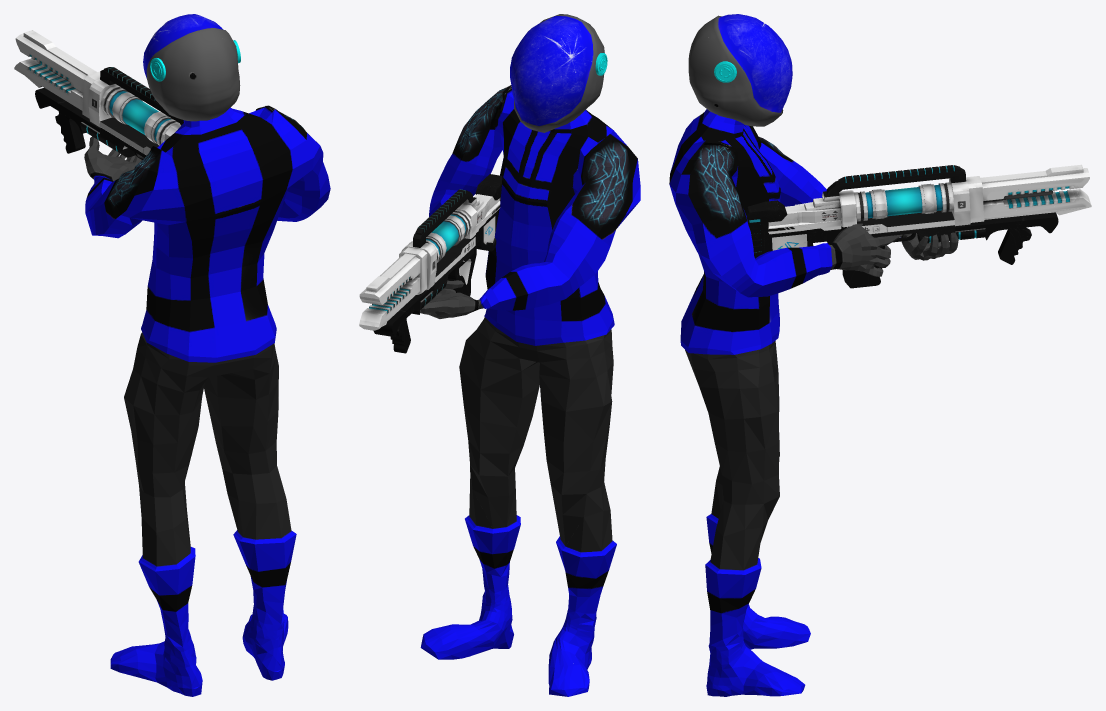
3 views of the same model, side by side, from view 1: azimuth 30°, elevation 25°; view 2: azimuth 150°, elevation 25°; view 3: azimuth 270°, elevation 25° (orthographic). The views are drawn at different scales.
Visible parts, largest first — view 1: Brazos2, Piernas1, Line0011, Cabeza1; view 2: Piernas1, Brazos2, Line0011, Cabeza1; view 3: Brazos2, Piernas1, Line0011, Cabeza1.
Boxes of the visible parts, x1=… form: Brazos2: x1=84, y1=105, x2=330, y2=362; Piernas1: x1=110, y1=332, x2=296, y2=696; Line0011: x1=14, y1=30, x2=183, y2=159; Cabeza1: x1=143, y1=14, x2=240, y2=121; Piernas1: x1=420, y1=317, x2=616, y2=696; Brazos2: x1=420, y1=85, x2=640, y2=345; Line0011: x1=359, y1=174, x2=502, y2=353; Cabeza1: x1=510, y1=14, x2=607, y2=132; Brazos2: x1=669, y1=109, x2=958, y2=354; Piernas1: x1=685, y1=341, x2=810, y2=696; Line0011: x1=745, y1=164, x2=1091, y2=288; Cabeza1: x1=688, y1=14, x2=792, y2=126.
Bounding box in the file's own units: 55.58 × 177 × 105.
